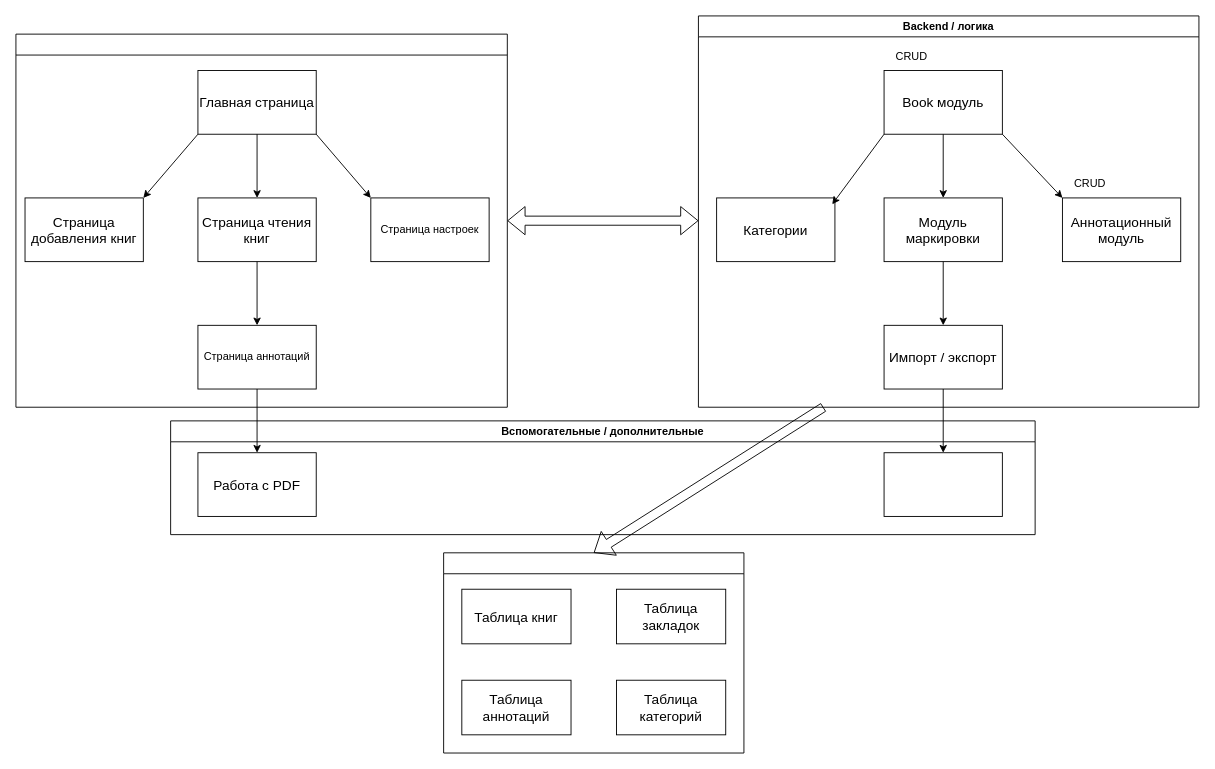
Some shapes in this 1215 by 769 pixel diagram are drawn without their labels. The box of each missing label's shape, as (x1, y1, x2, y2) in pixels:
Frontend / страницы модуль: (15, 33, 507, 407)
База данных: (443, 552, 744, 753)
ИИ модуль: (883, 452, 1002, 516)
